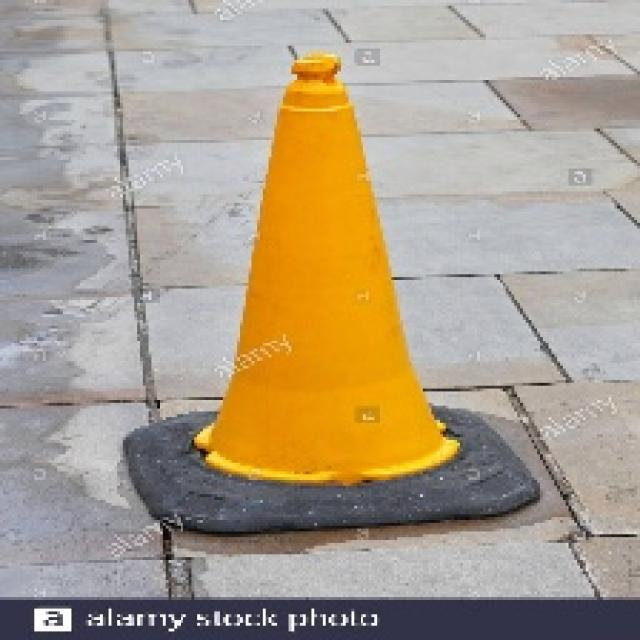cone: (117, 48, 542, 542)
